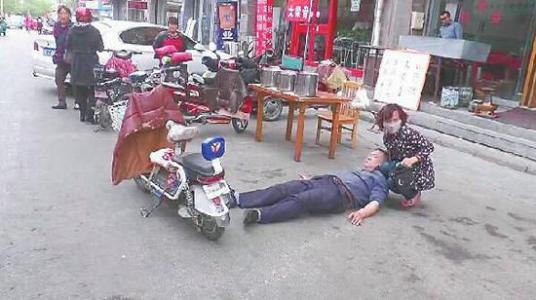fall: (219, 143, 396, 231)
